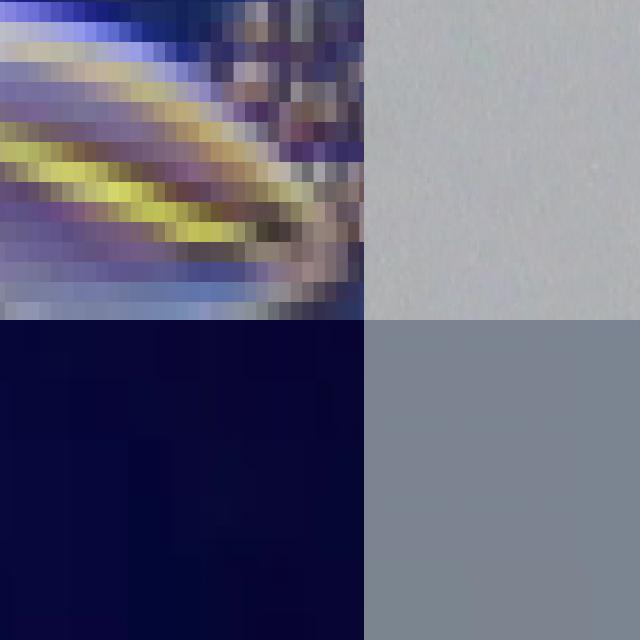fish: (0, 0, 364, 320), (364, 320, 640, 640)
